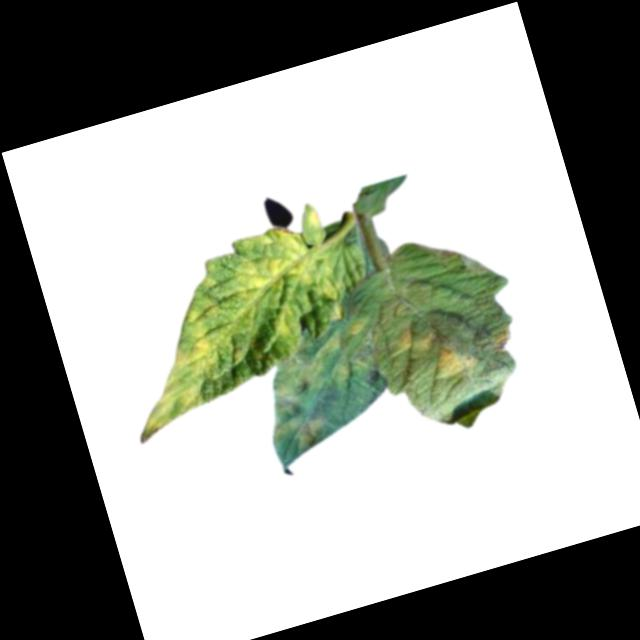Leaf_Mold: (97, 255, 265, 444), (246, 312, 398, 458), (218, 216, 352, 353), (427, 336, 478, 383), (390, 318, 437, 356), (486, 326, 518, 353)
